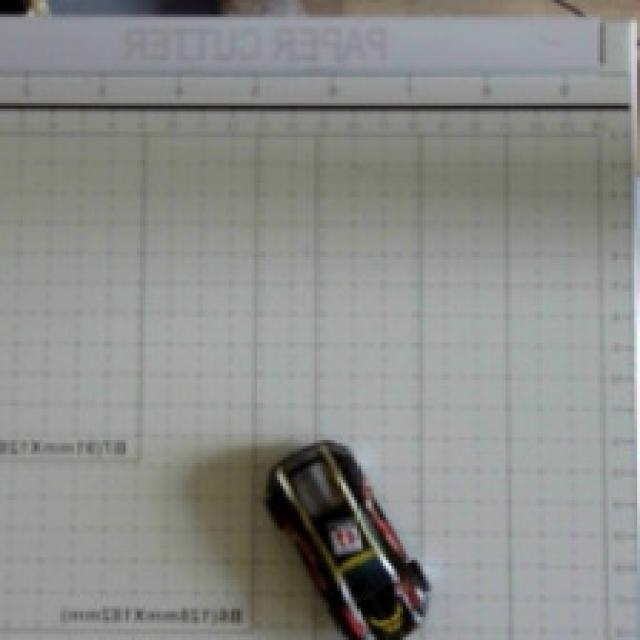Red Car: (228, 403, 443, 640)
